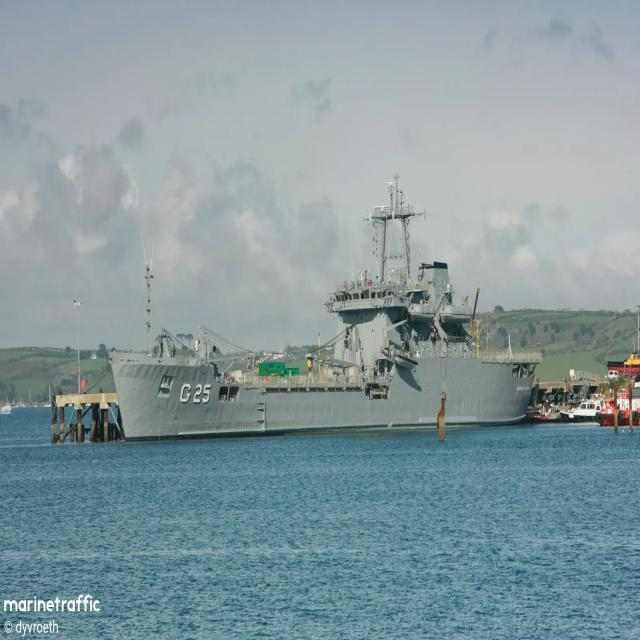Military: (110, 182, 541, 439)
